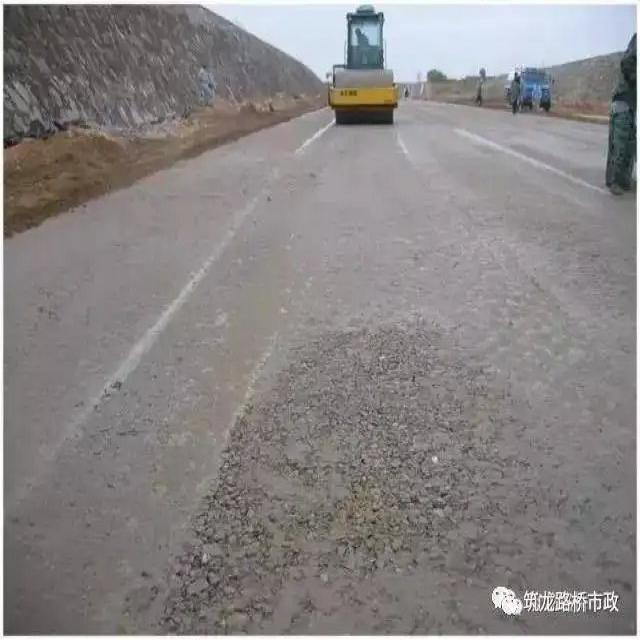Pothole: (176, 313, 521, 616)
